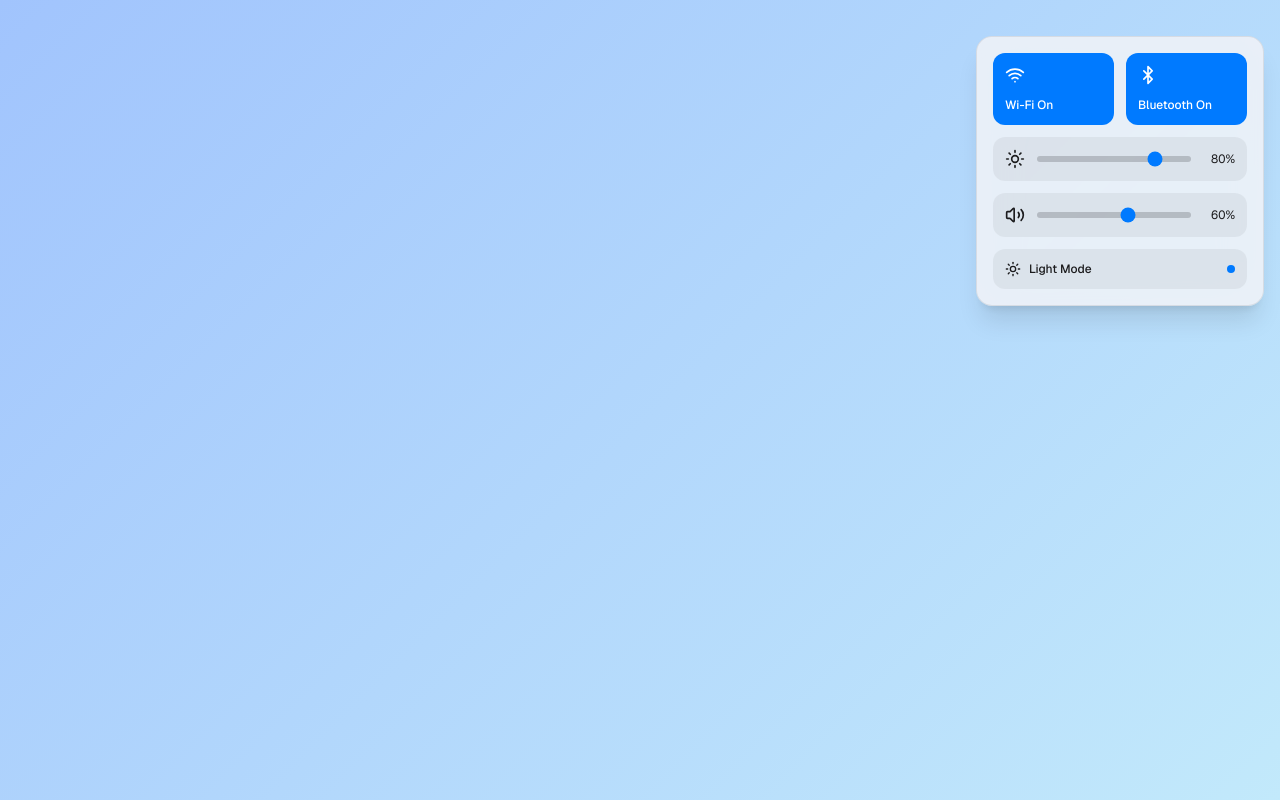
it: ControlCenter › updates brightness and volume values
Set the slider named "Brightness" to "42" at (1103, 159), box [1037,156,1191,162]
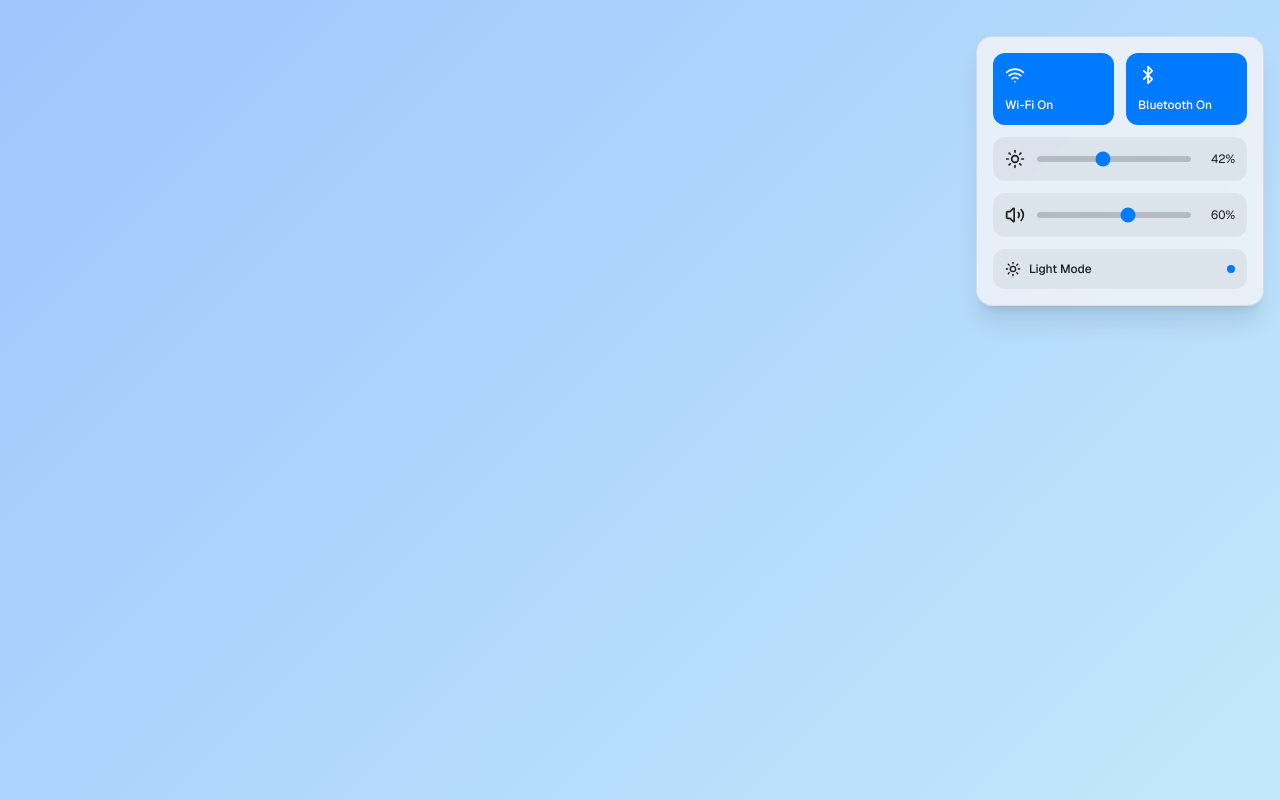
Set the slider named "Volume" to "75" at (1148, 215), box [1037,212,1191,218]
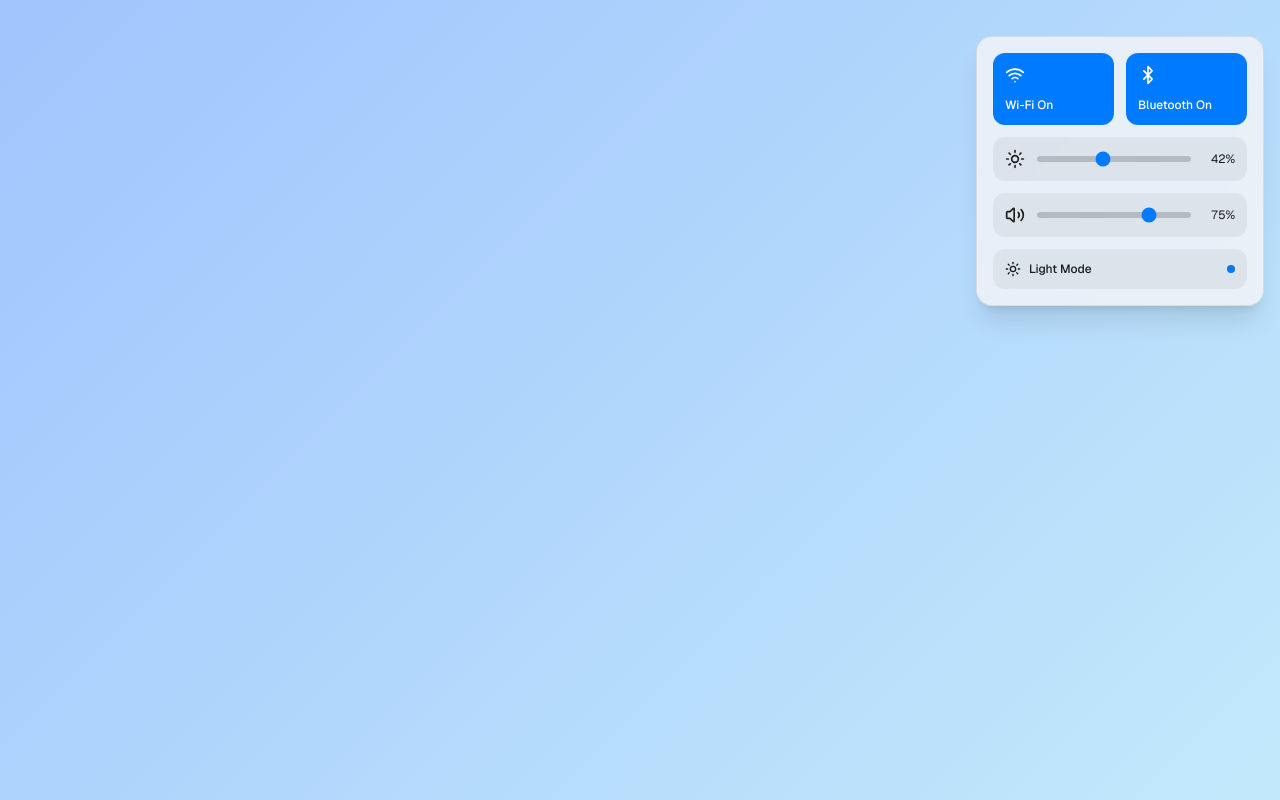
Check: the text with test id "cc-brightness-value" reads "42%", box [1211,151,1235,167]
Check: the text with test id "cc-volume-value" reads "75%", box [1211,207,1235,223]
